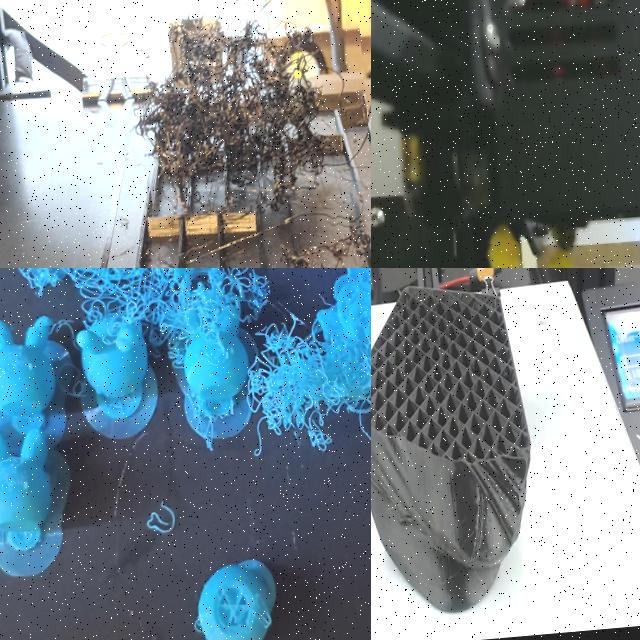spaghetti: (128, 0, 371, 218), (252, 268, 371, 470), (0, 268, 271, 330), (267, 208, 371, 268), (134, 495, 184, 547), (487, 225, 520, 268)
